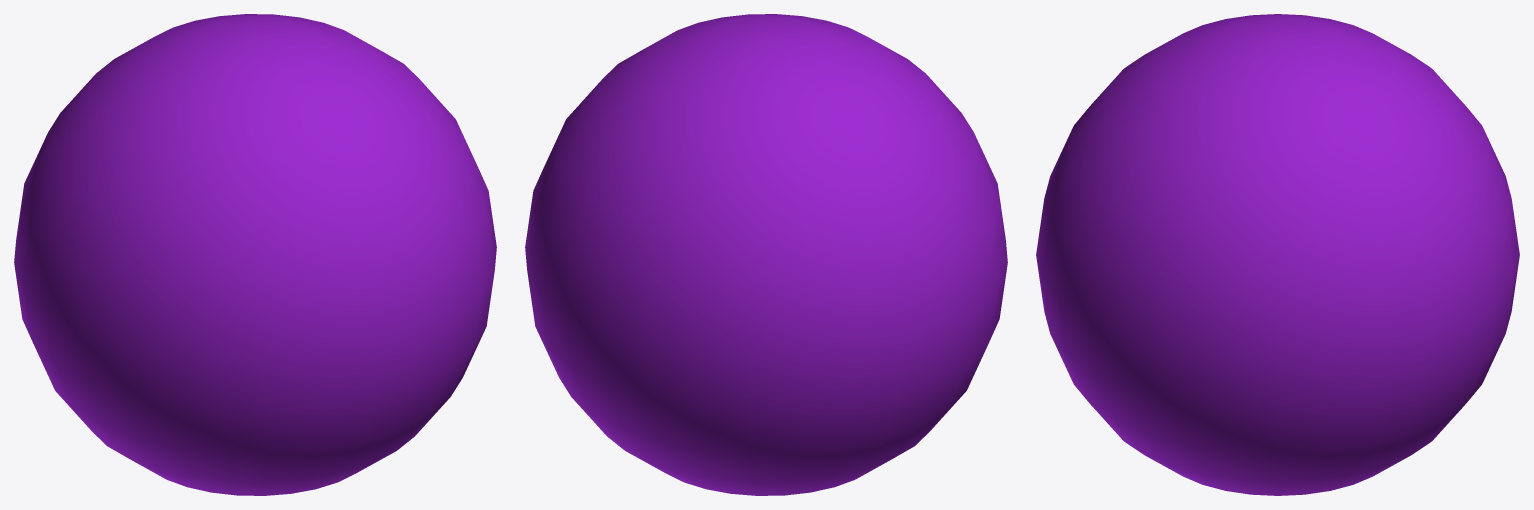
Rendered from deathParticle.obj.
The picture shows the model from 3 angles, left to right: view 1: azimuth 30°, elevation 25°; view 2: azimuth 150°, elevation 25°; view 3: azimuth 270°, elevation 25°; orthographic projection.
Parts seen in each view (by area): view 1: 球; view 2: 球; view 3: 球.
Boxes of the visible parts, left/top/right/bottom form: 球: left=14, top=14, right=496, bottom=495; 球: left=525, top=14, right=1007, bottom=495; 球: left=1036, top=14, right=1519, bottom=495.
Size of the model in its own units: 2 by 2 by 2.
